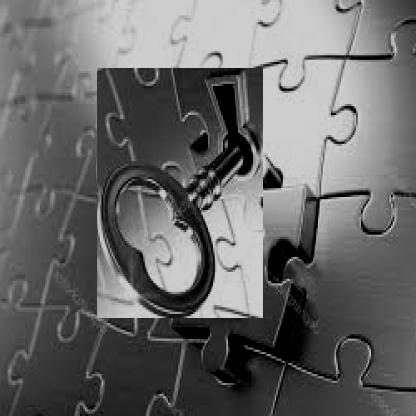key: (97, 69, 263, 318)
